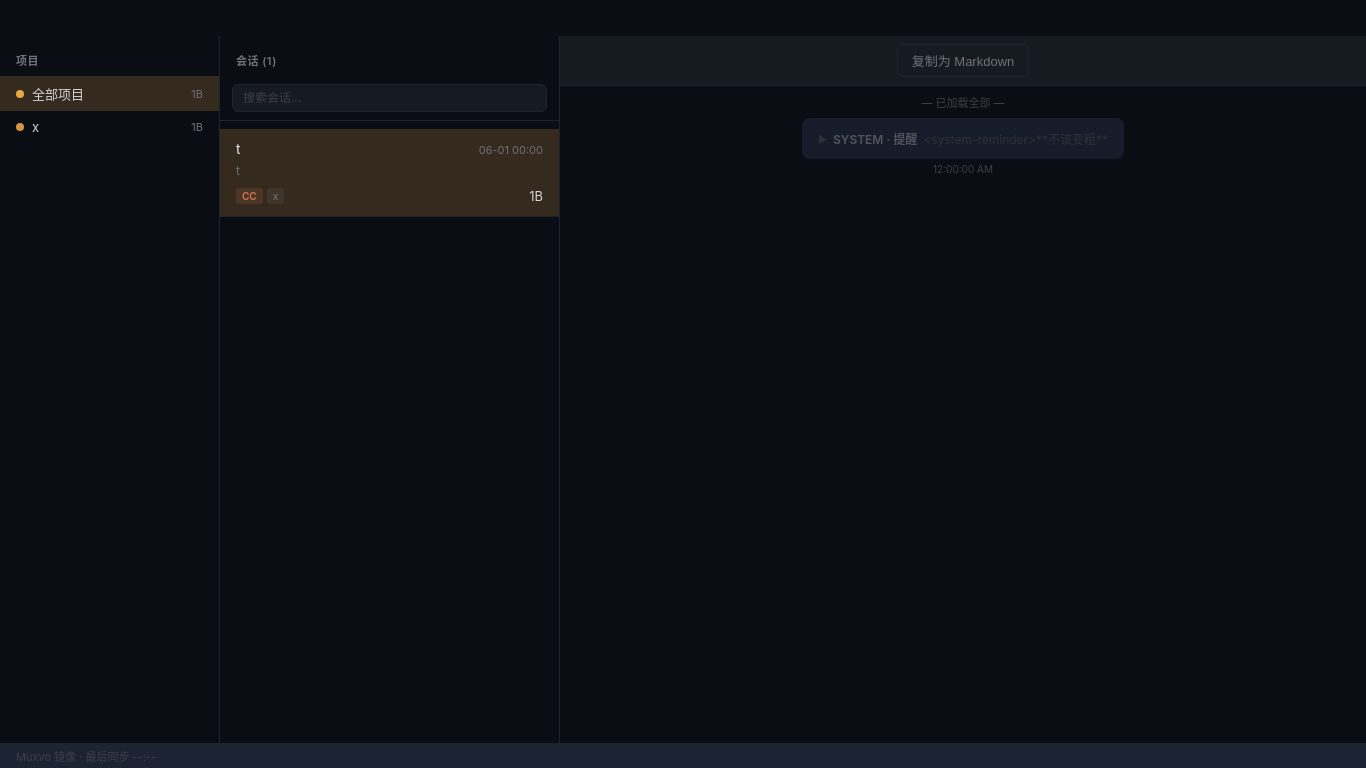
Scenario: system 折叠壳（live-only） › 点击 header 展开 → 出纯文本 body（不渲 markdown）；再点折回
Click the element with class "system-fold__header".
click(963, 138)  # box [818,130,1108,147]
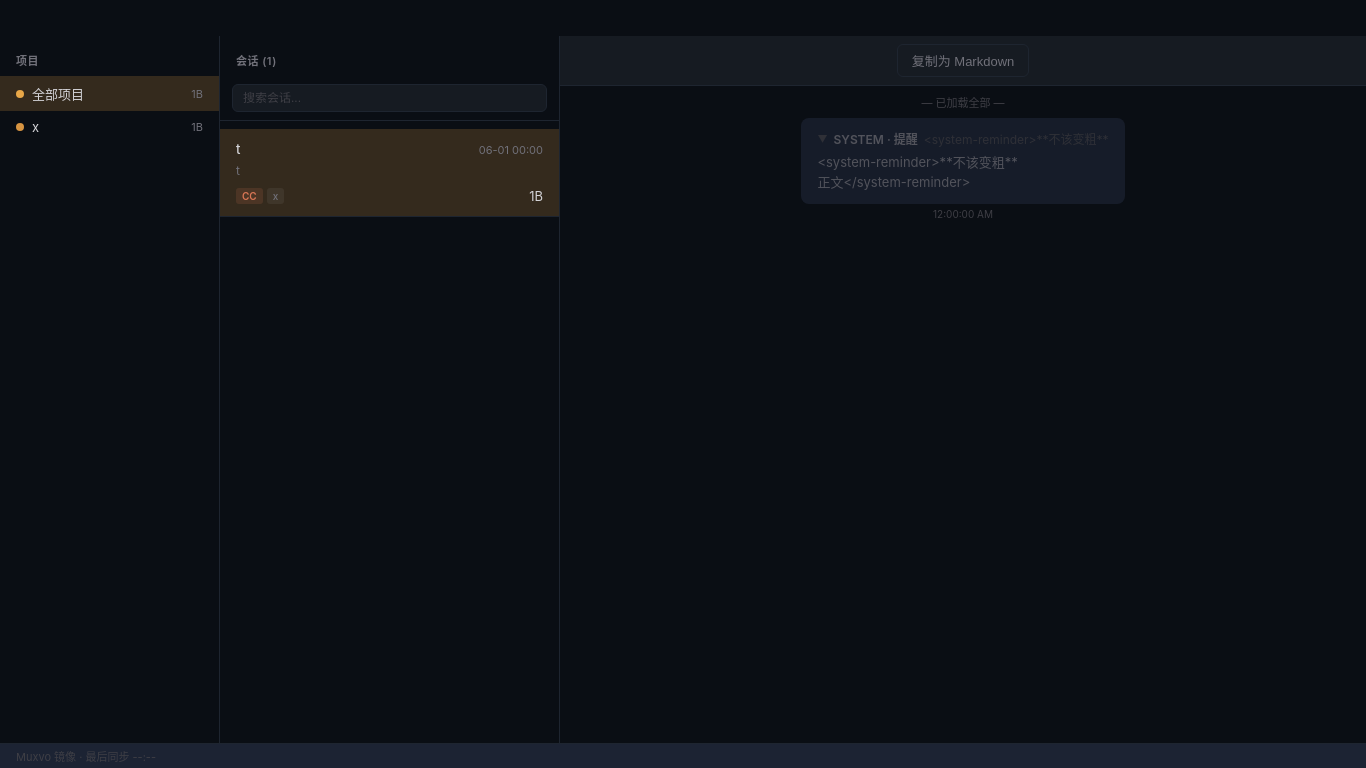
Expected: the text with class "system-fold__body" shows "**不该变粗**", [817,154,1018,190]
Click the element with class "system-fold__header".
click(963, 138)  # box [817,130,1109,147]
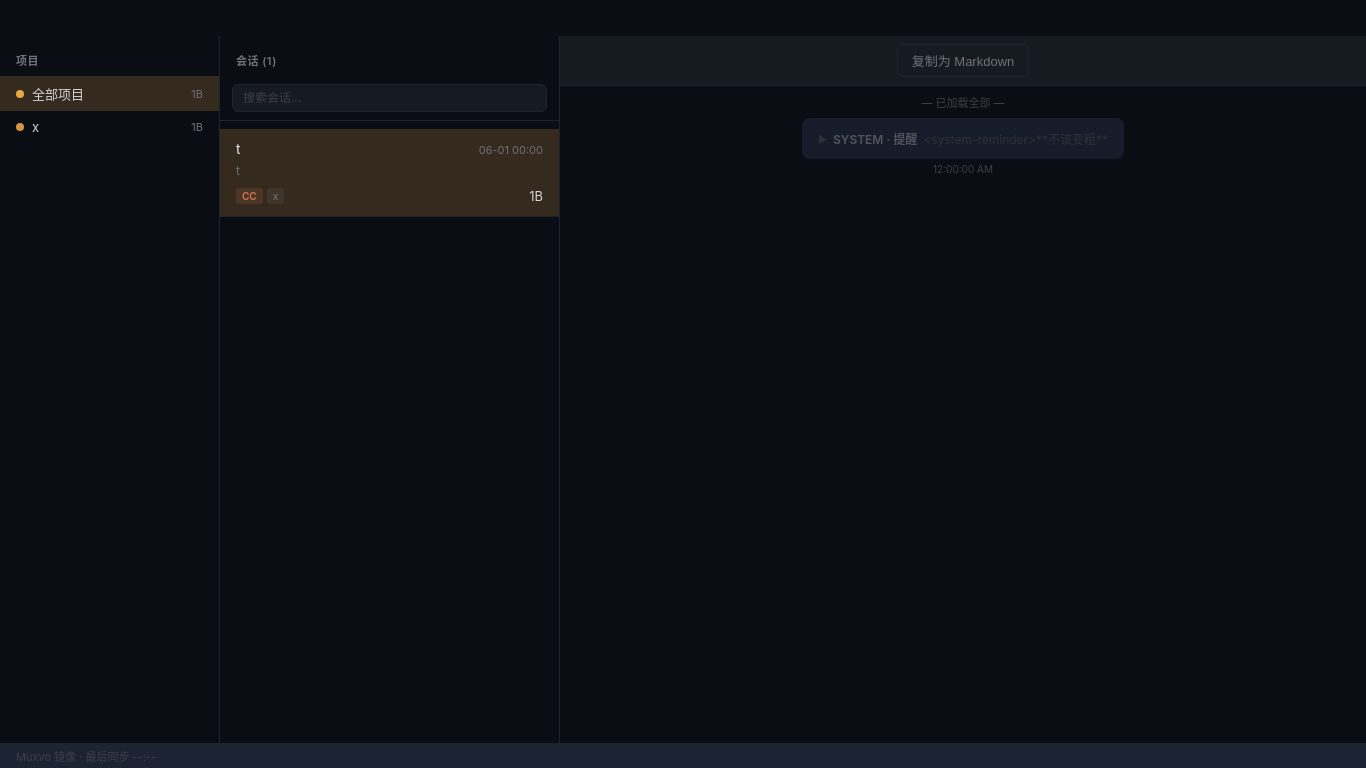
Expected: the text with class "system-fold__body" is gone
